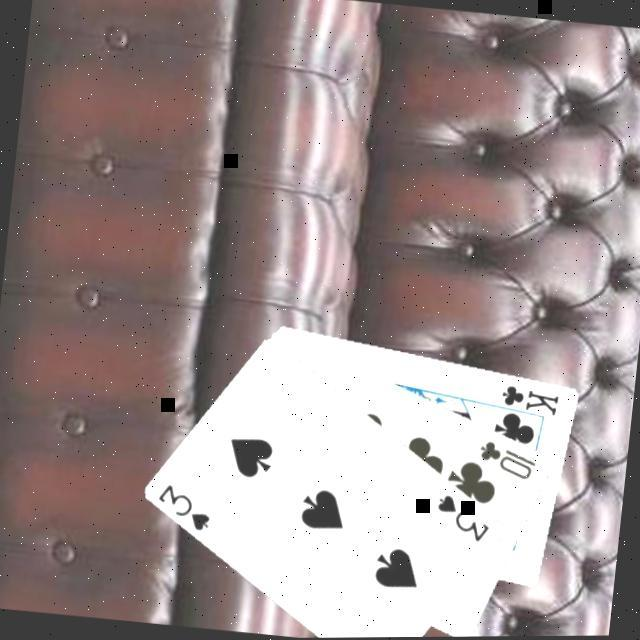10C: (476, 434, 544, 482)
3S: (432, 488, 498, 545), (153, 478, 220, 534)
KC: (492, 378, 564, 422)
